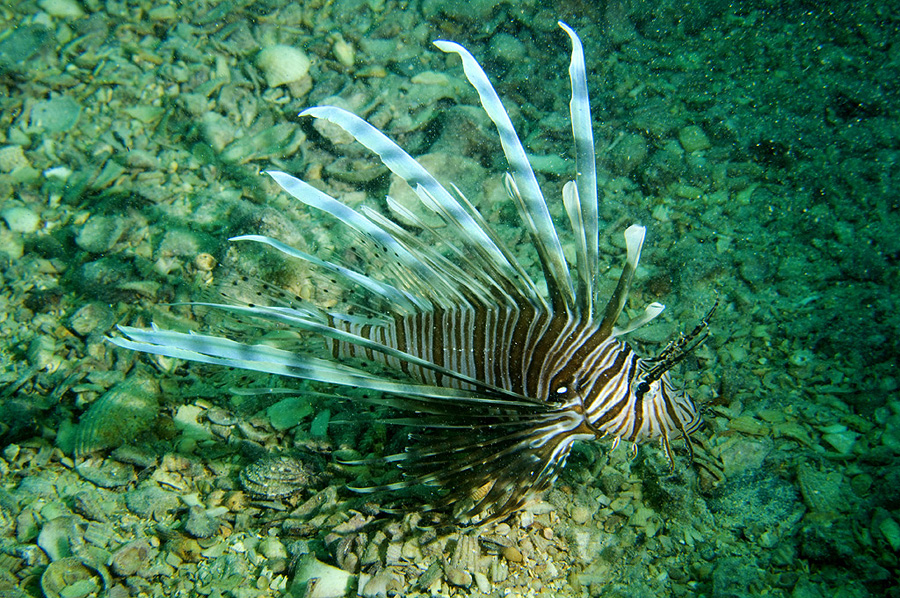Pterois_volitans: (96, 21, 734, 546)
